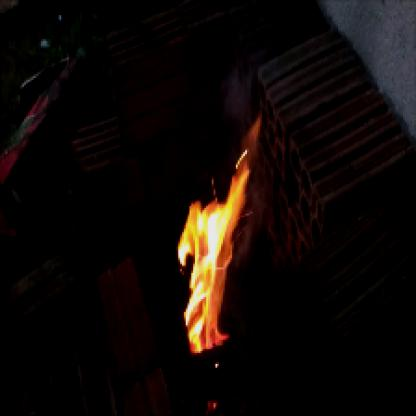Fire: (172, 102, 264, 357)
